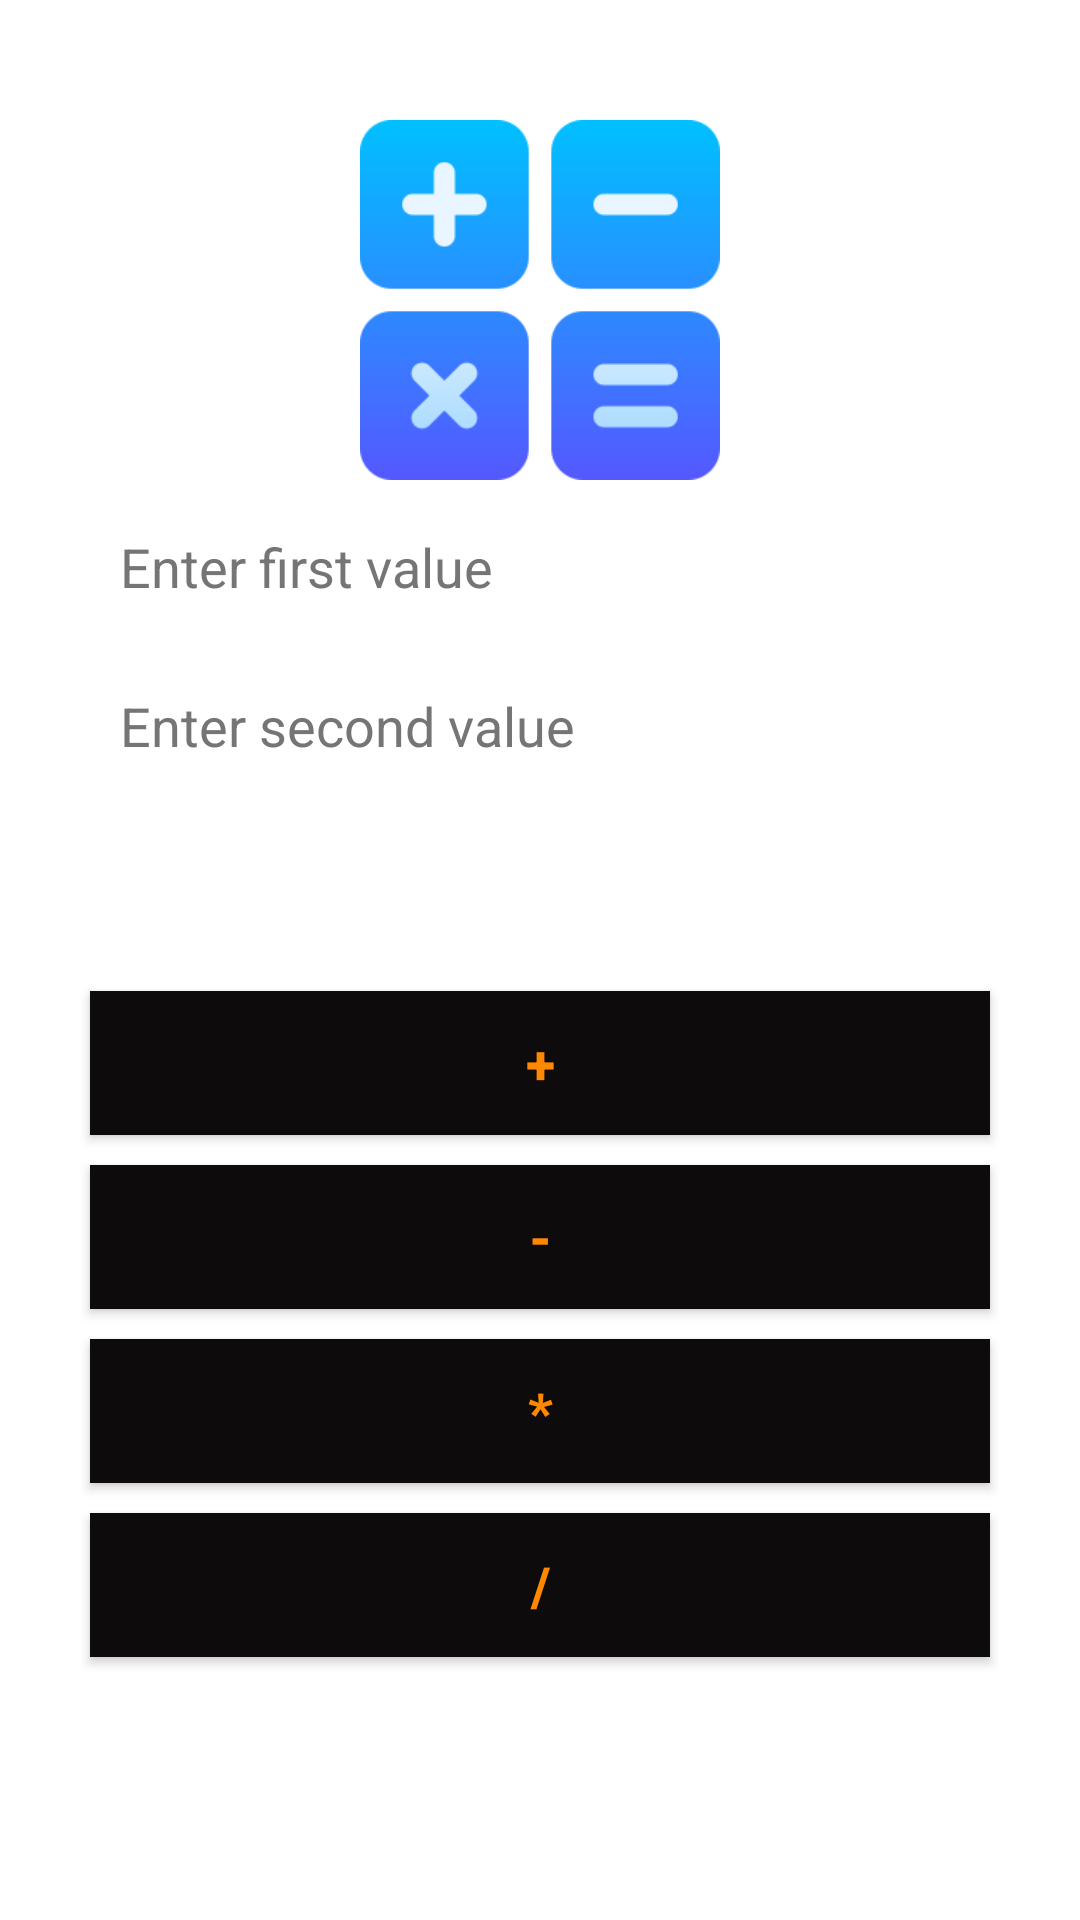

Screen size 1080px x 1920px. Icon name, then its center in pixels as point (x, y):
calculator: point (540, 300)
